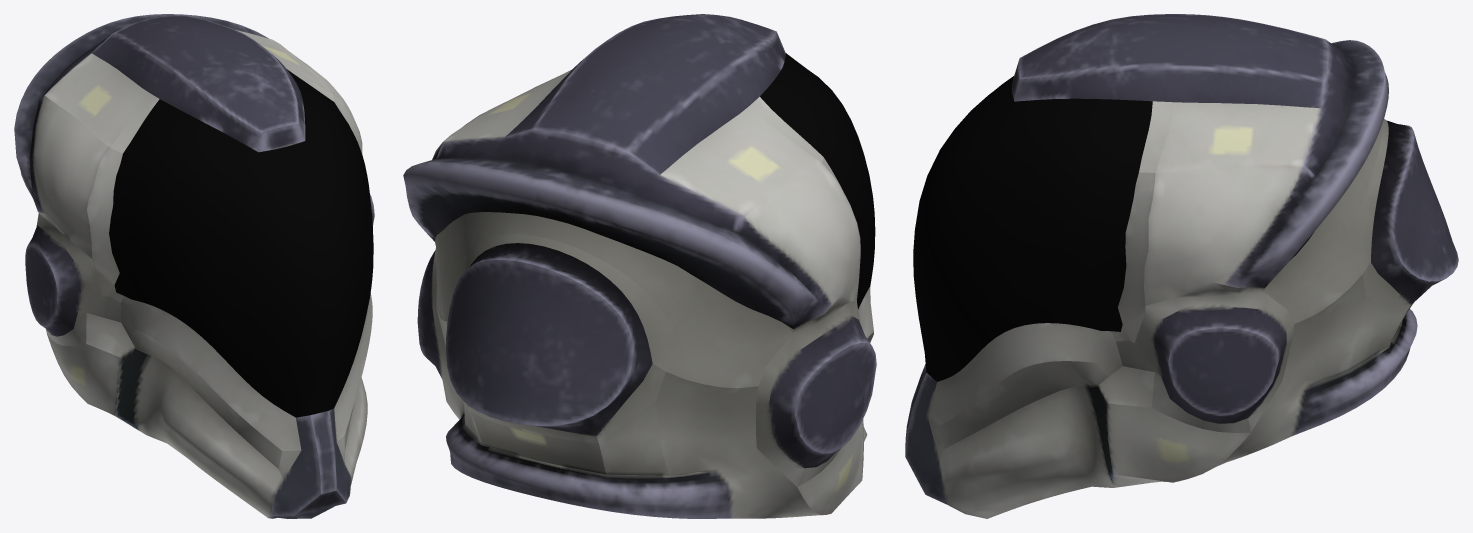
The picture shows the model from 3 angles, left to right: view 1: azimuth 30°, elevation 25°; view 2: azimuth 150°, elevation 25°; view 3: azimuth 270°, elevation 25°; orthographic projection. The views are drawn at different scales.
Parts seen in each view (by area): view 1: Head_Geo; view 2: Head_Geo; view 3: Head_Geo.
Part boxes in pixels (box(x1,y1,x2,y2)): Head_Geo: box(14, 14, 374, 518); Head_Geo: box(403, 14, 876, 518); Head_Geo: box(905, 14, 1458, 518).
Bounding box in the file's own units: 0.8072 × 0.9954 × 1.04.
2 materials, 1 textured.
